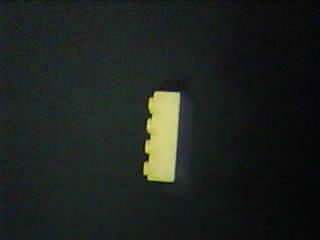lego: (141, 89, 182, 183)
